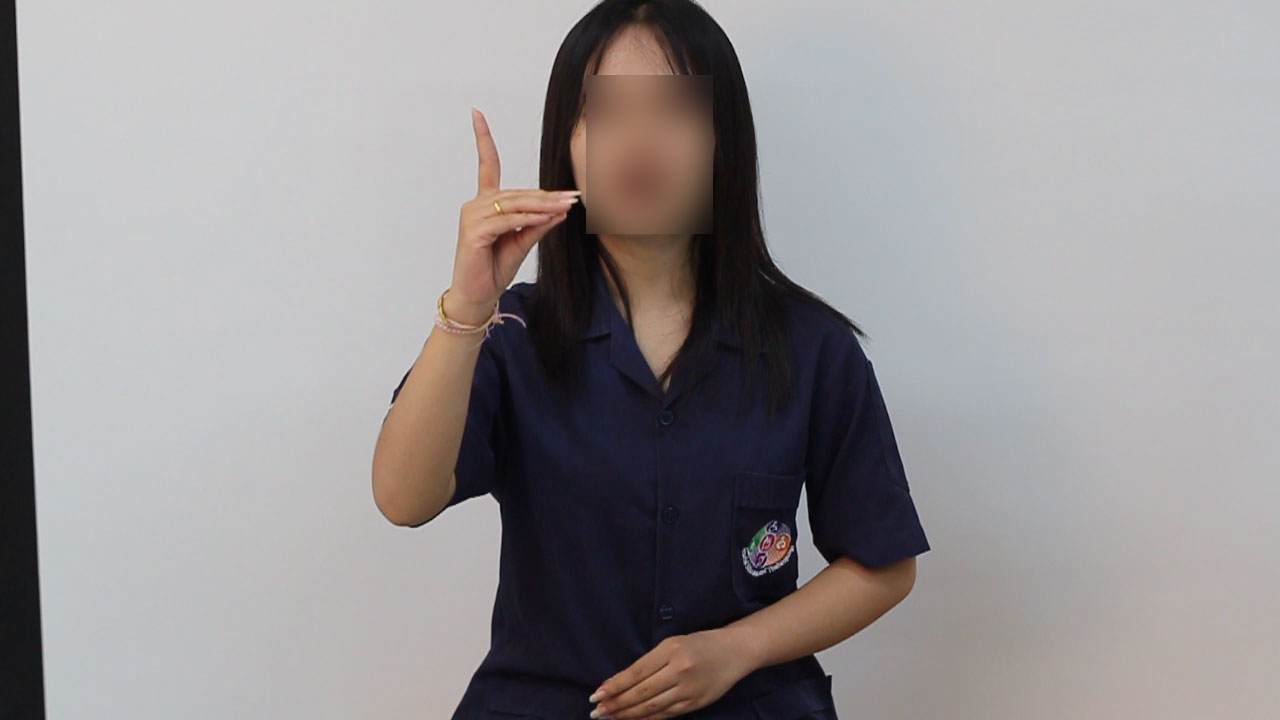dor: (434, 102, 587, 315)
